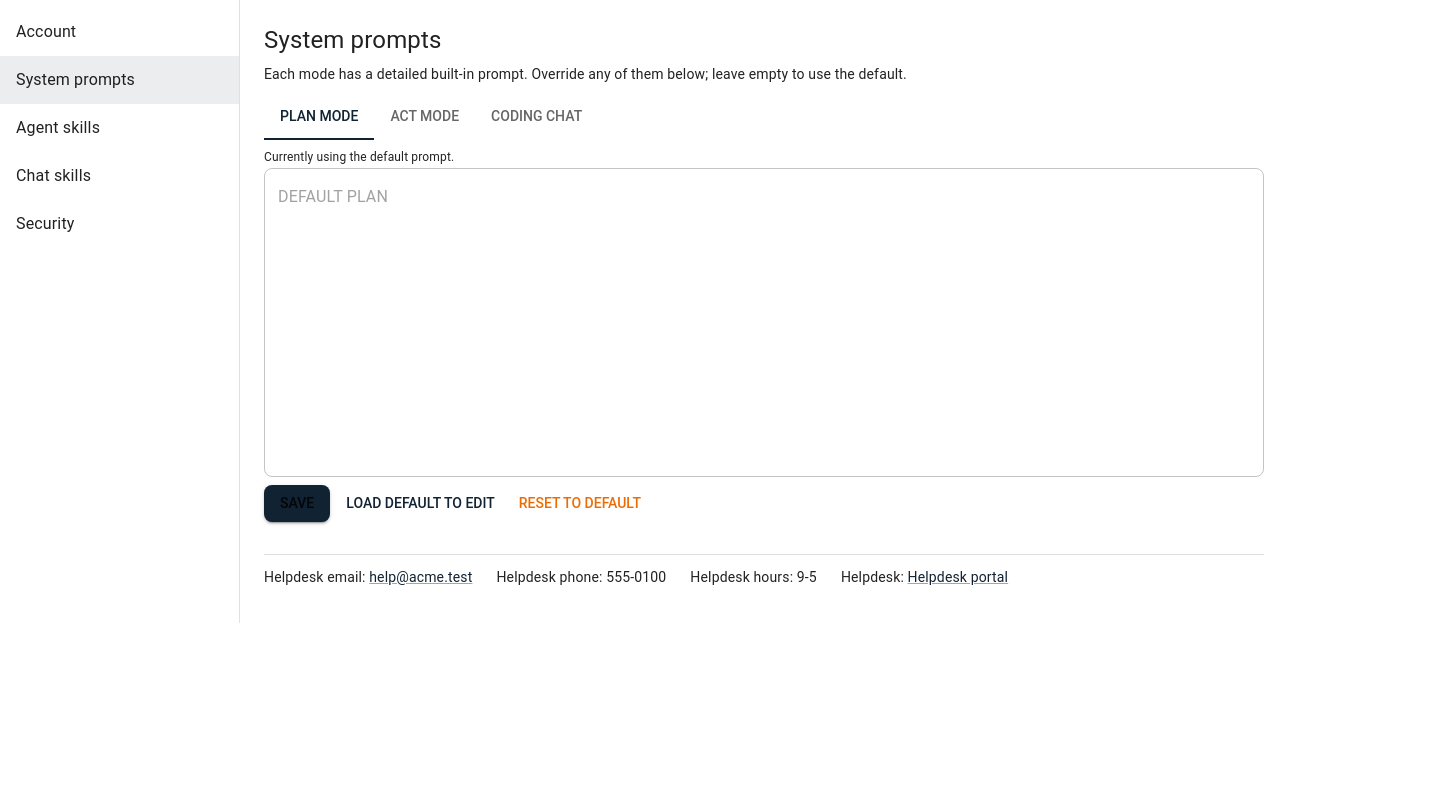
Scenario: profile prompt editor › saves an override and resets to default
The width and height of the screenshot is (1440, 810).
In the text box named "plan system prompt": (764, 323) [278, 185, 1250, 461], type "be terse"
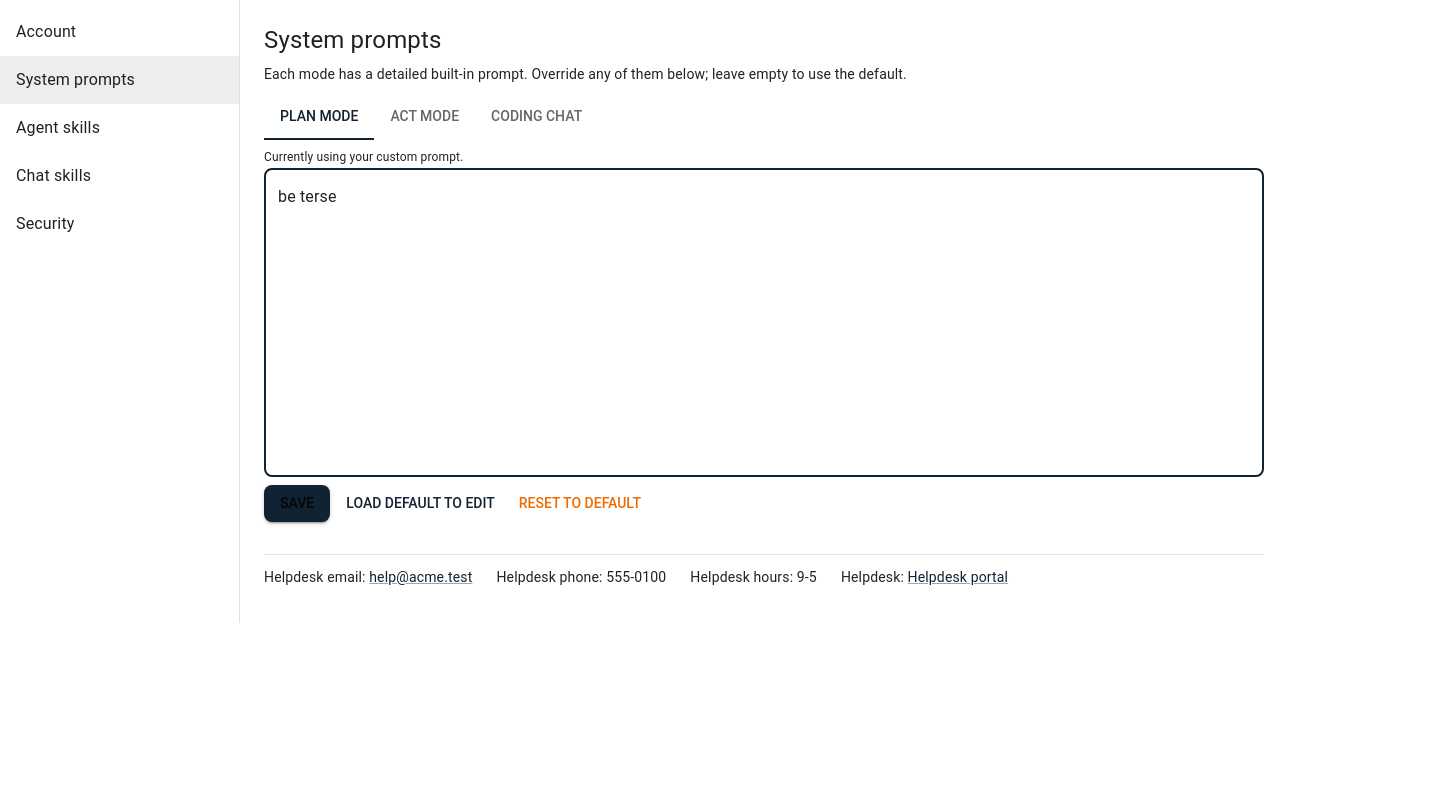
Click the button "Save": (297, 504) [264, 485, 330, 522]
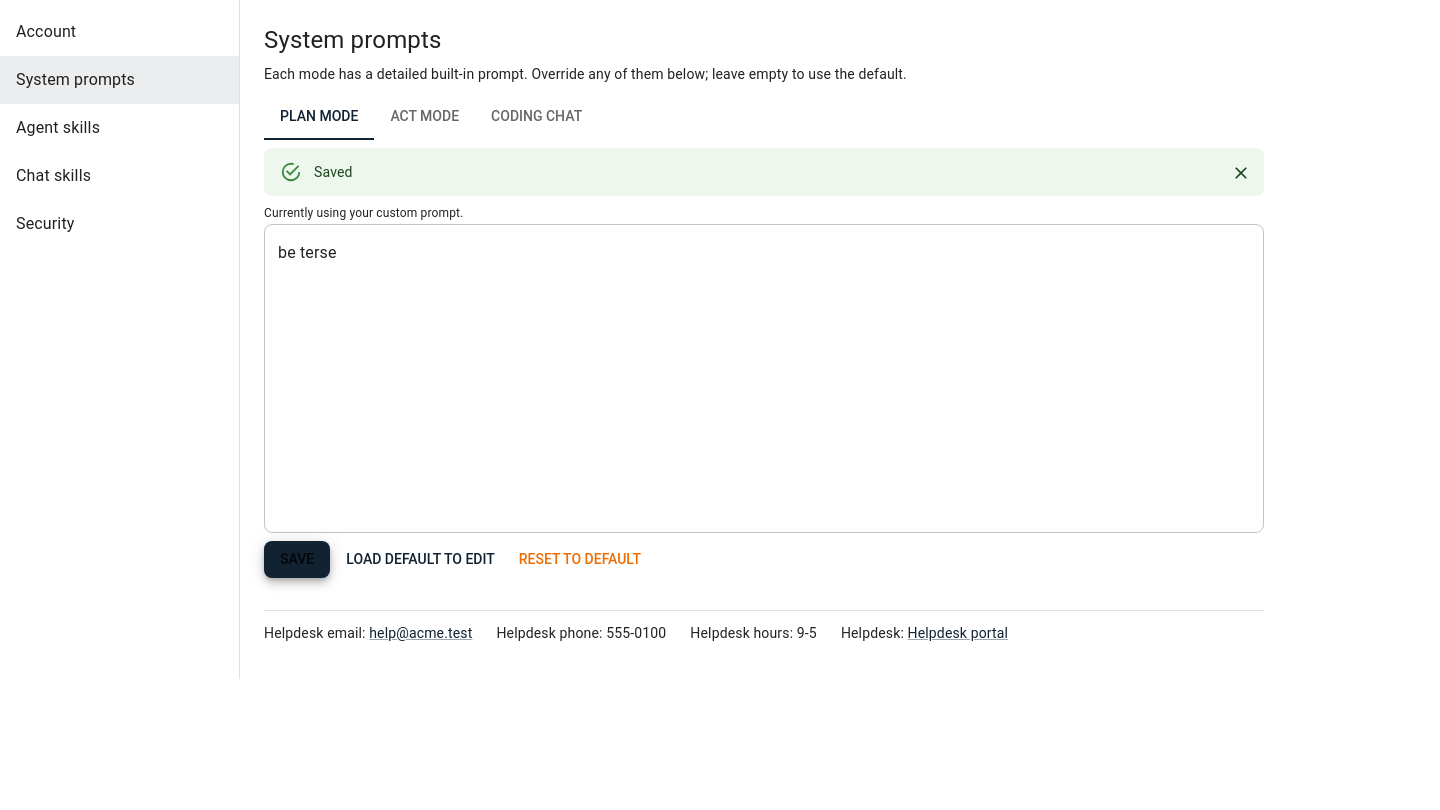
Click the button "Reset to default": (580, 560) [511, 541, 649, 578]
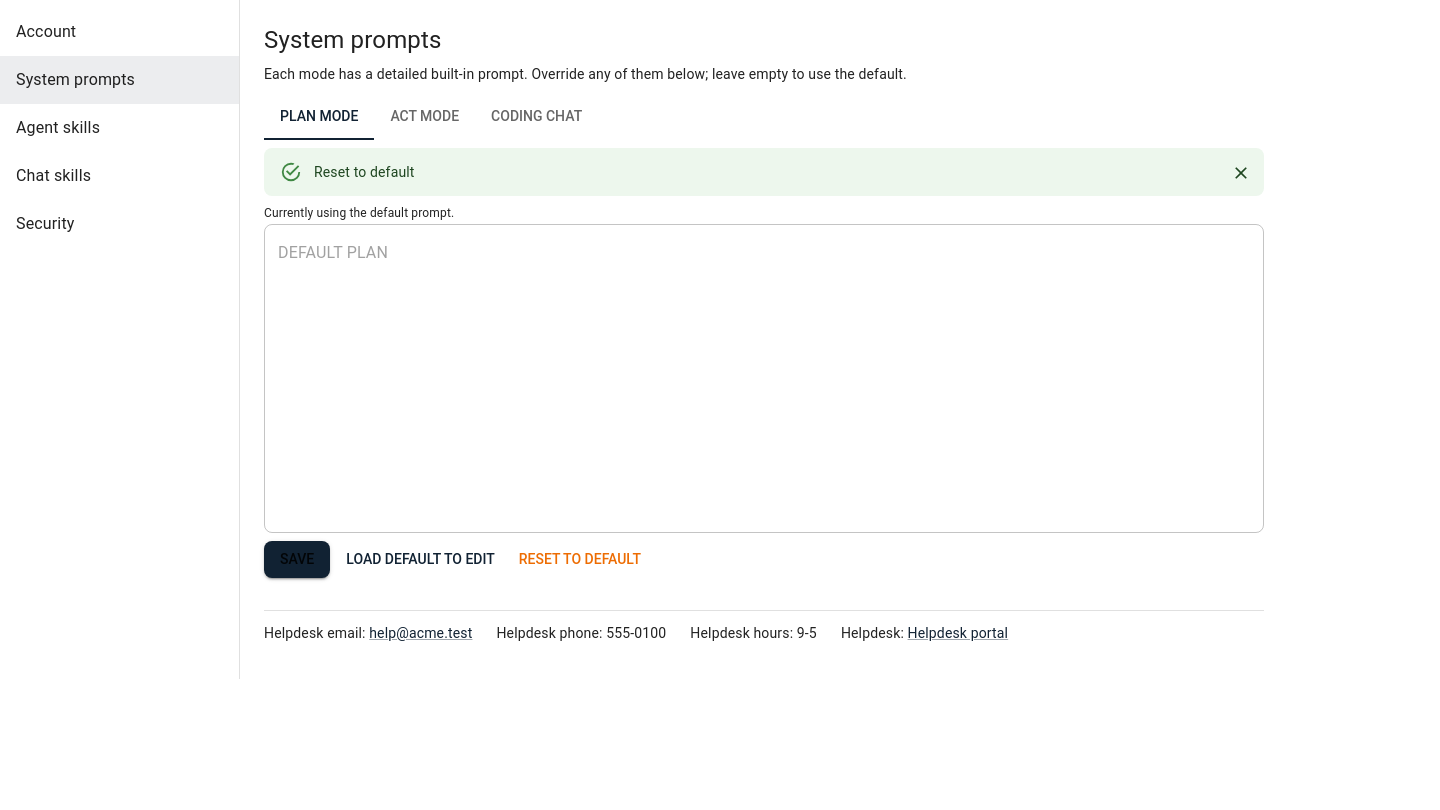
Result: the text "Reset to default" is shown at [314, 164, 415, 180]
